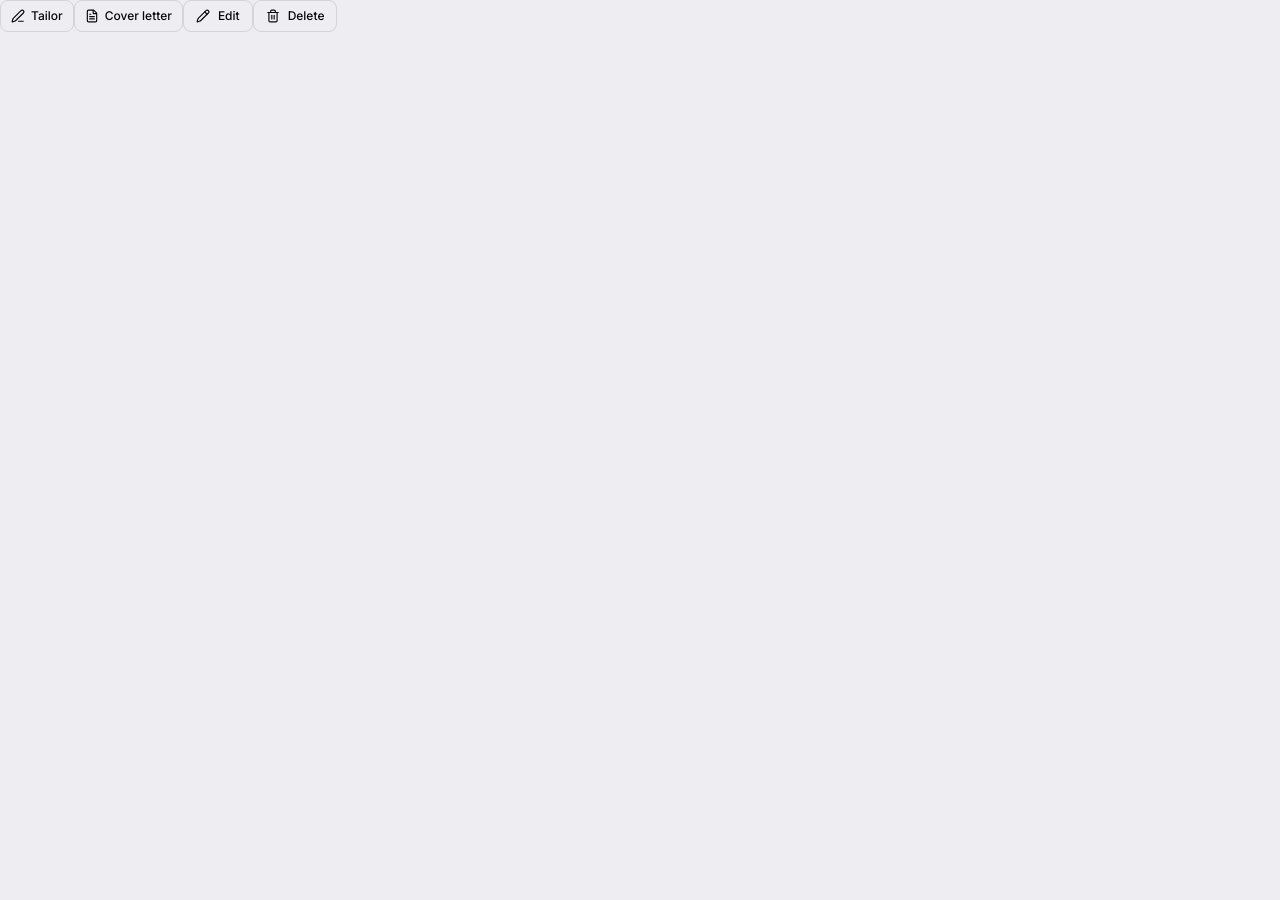
Test: JobDetailActions › opens the edit dialog
Click the button with aria-label "Edit Globex" at (218, 16), box [183,0,253,32]
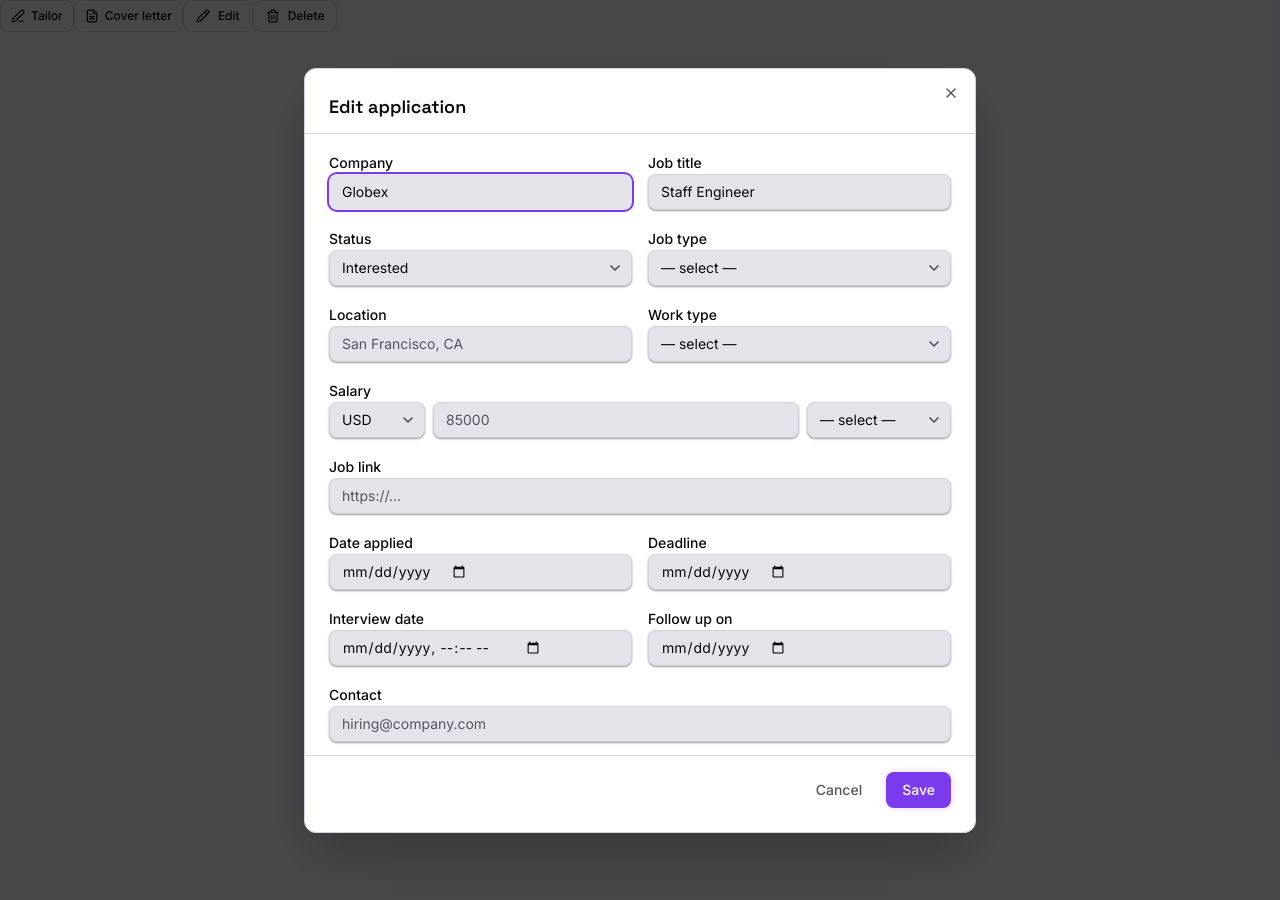
Now the dialog is shown, box [304,68,976,832]
Now the field labelled "Company" holds "Globex", box [329,174,632,210]
